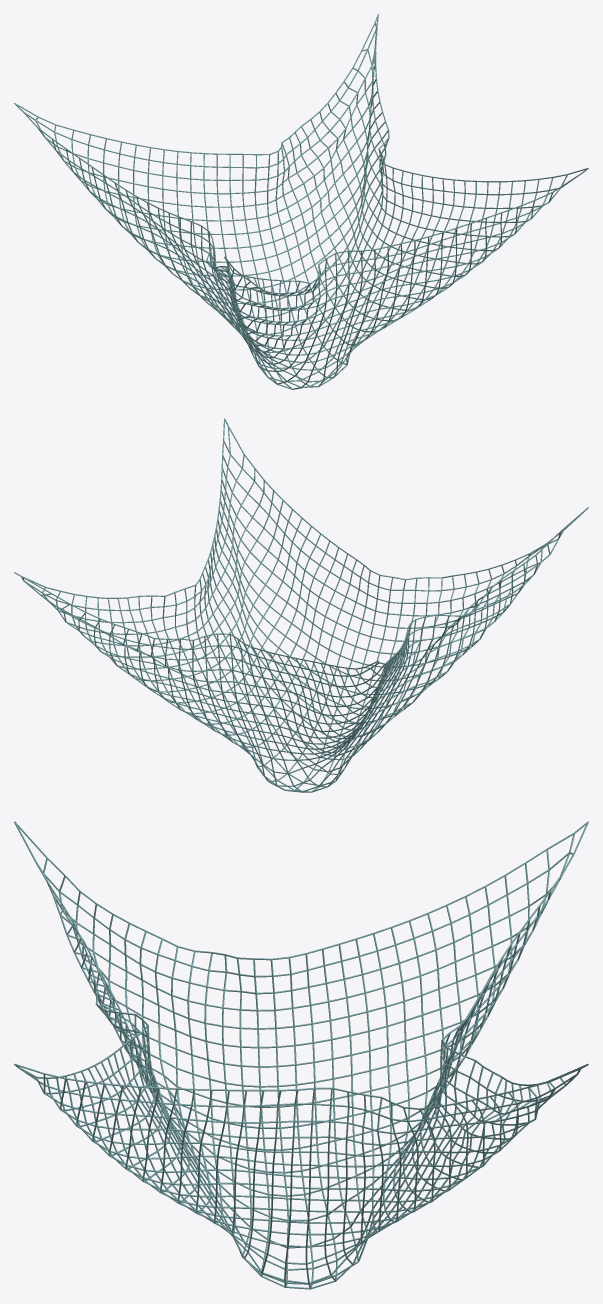
File: blueNet.fbx
The picture shows the model from 3 angles, top to bottom: view 1: azimuth 30°, elevation 25°; view 2: azimuth 150°, elevation 25°; view 3: azimuth 270°, elevation 25°; orthographic projection. The views are drawn at different scales.
Visible parts, largest first — view 1: 平面_2; view 2: 平面_2; view 3: 平面_2.
Part boxes in pixels (box(x1,y1,x2,y2)): 平面_2: box(14, 14, 588, 389); 平面_2: box(14, 418, 588, 792); 平面_2: box(14, 821, 588, 1289).
Bounding box in the file's own units: 401 × 262 × 401.
